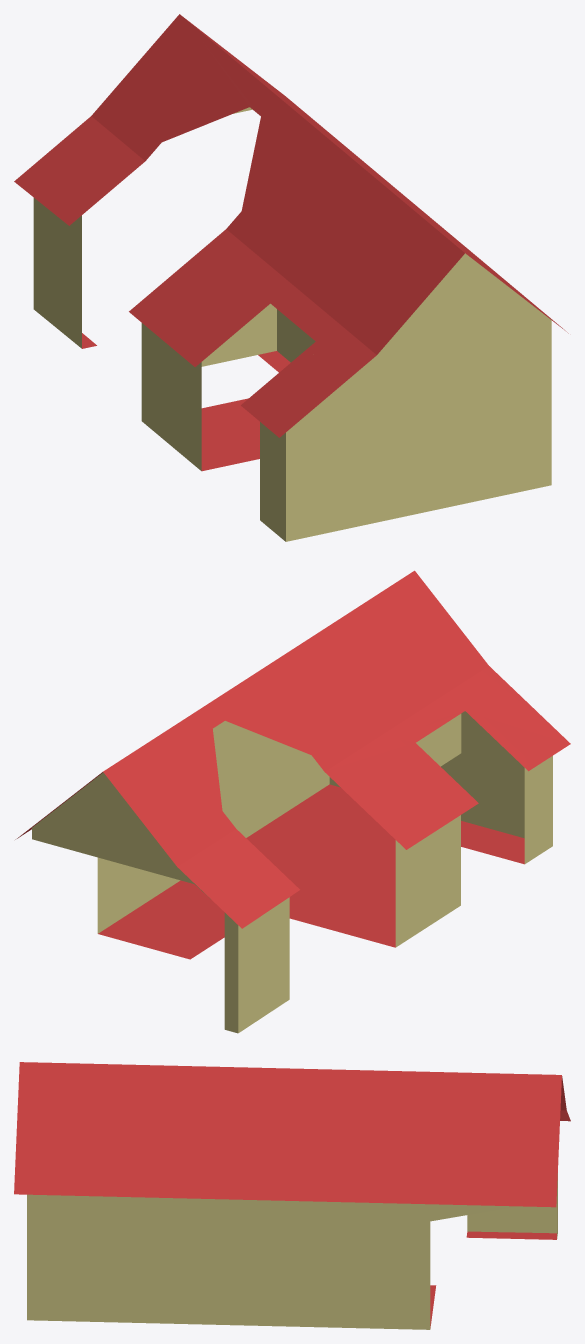
3 renders of one model, top to bottom at view 1: azimuth 30°, elevation 25°; view 2: azimuth 150°, elevation 25°; view 3: azimuth 270°, elevation 25°, orthographic. The views are drawn at different scales.
Size of the model in its own units: 18.74 by 33.69 by 14.71.
